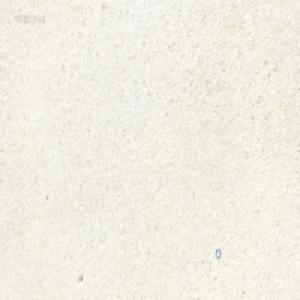Washer: (215, 247, 221, 258)
